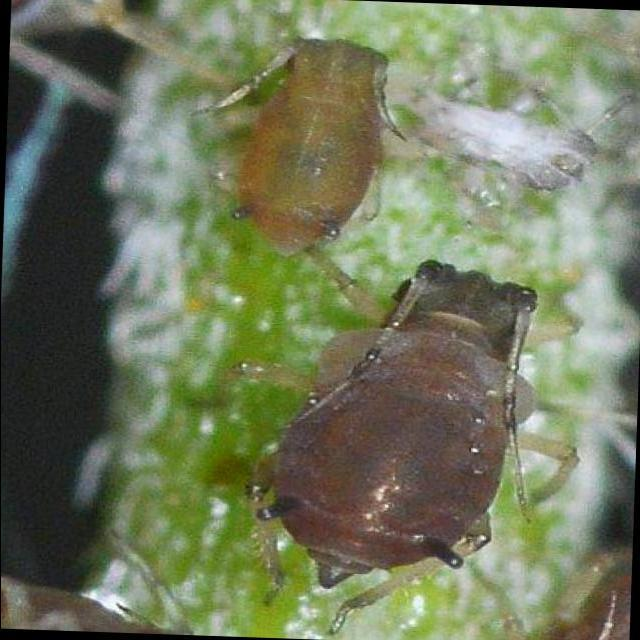aphid: (242, 205, 590, 640), (206, 14, 394, 276)
